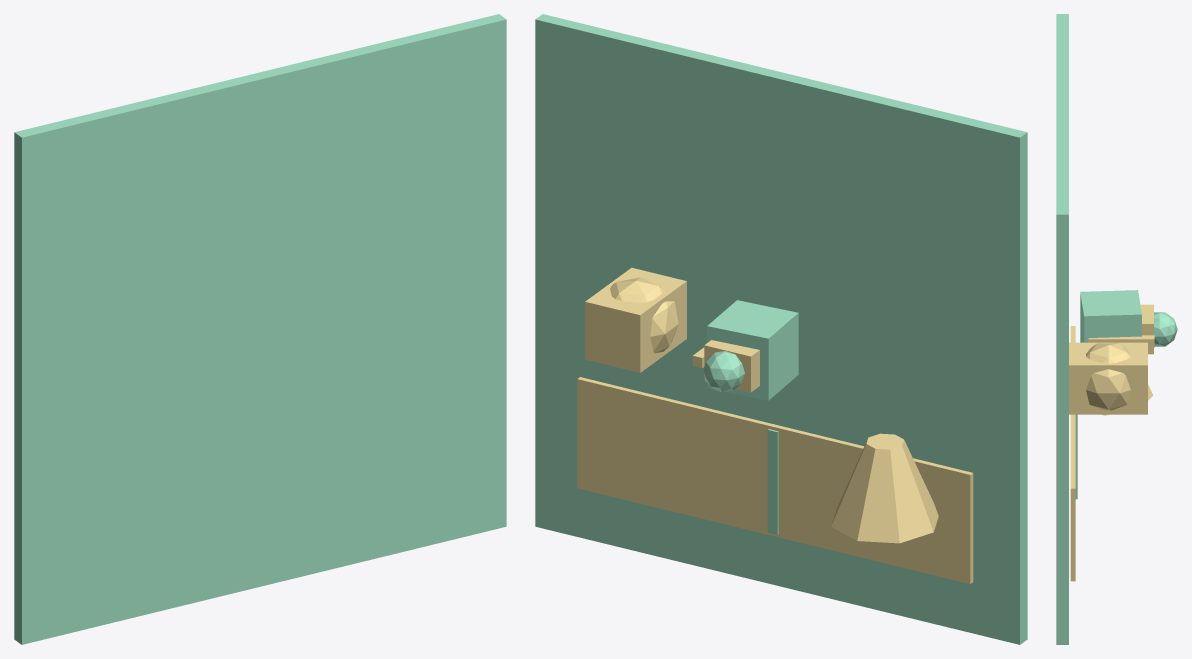
Rendered from skybound-platformer-kit.glb.
3 views of the same model, side by side, from view 1: azimuth 30°, elevation 25°; view 2: azimuth 150°, elevation 25°; view 3: azimuth 270°, elevation 25° (orthographic). The views are drawn at different scales.
Parts seen in each view (by area): view 1: ENVIRONMENT_GROUND; view 2: ENVIRONMENT_GROUND, PROFILE_ENVIRONMENT_DETAIL, ENVIRONMENT_LANDMARK, PROFILE_OBSTACLE_DETAIL, PLAYER_BODY, OBSTACLE, PROFILE_PLAYER_HEAD, PROFILE_PLAYER_DETAIL, PROFILE_ENVIRONMENT_MARKING; view 3: ENVIRONMENT_GROUND, PROFILE_OBSTACLE_DETAIL, PLAYER_BODY, OBSTACLE, PROFILE_ENVIRONMENT_DETAIL, PROFILE_PLAYER_HEAD, PROFILE_PLAYER_TOOL, PROFILE_PLAYER_DETAIL, PROFILE_ENVIRONMENT_MARKING.
Boxes of the visible parts, x1,y1,x2,y2 form: ENVIRONMENT_GROUND: (14, 14, 506, 644); ENVIRONMENT_GROUND: (535, 14, 1027, 644); PROFILE_ENVIRONMENT_DETAIL: (577, 377, 973, 583); ENVIRONMENT_LANDMARK: (831, 433, 938, 543); PROFILE_OBSTACLE_DETAIL: (585, 267, 686, 372); PLAYER_BODY: (707, 300, 798, 400); OBSTACLE: (610, 277, 678, 353); PROFILE_PLAYER_HEAD: (703, 351, 744, 392); PROFILE_PLAYER_DETAIL: (704, 340, 759, 392); PROFILE_ENVIRONMENT_MARKING: (767, 429, 778, 534); ENVIRONMENT_GROUND: (1056, 14, 1068, 644); PROFILE_OBSTACLE_DETAIL: (1069, 342, 1147, 414); PLAYER_BODY: (1080, 290, 1141, 342); OBSTACLE: (1086, 343, 1130, 410); PROFILE_ENVIRONMENT_DETAIL: (1070, 326, 1075, 581); PROFILE_PLAYER_HEAD: (1154, 312, 1177, 346); PROFILE_PLAYER_TOOL: (1088, 335, 1154, 347); PROFILE_PLAYER_DETAIL: (1140, 304, 1153, 354); PROFILE_ENVIRONMENT_MARKING: (1075, 414, 1077, 499).
Size of the model in its own units: 9 by 9 by 2.3.
